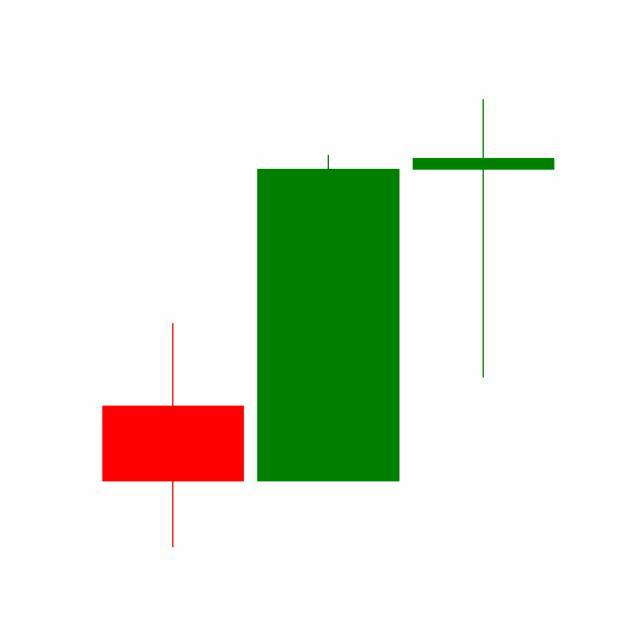Spinning Top: (406, 97, 562, 382)
